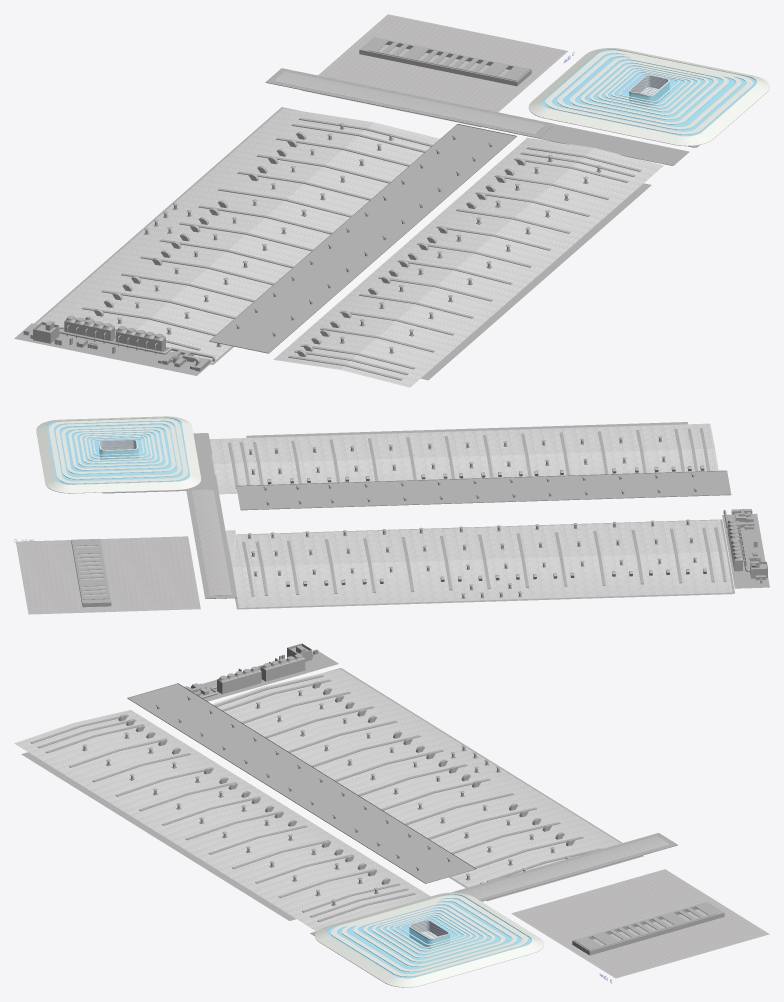
The model's file is 1brgz.glb.
3 renders of one model, top to bottom at view 1: azimuth 30°, elevation 25°; view 2: azimuth 150°, elevation 25°; view 3: azimuth 270°, elevation 25°, orthographic. The views are drawn at different scales.
Parts seen in each view (by area): view 1: dingpeng, 组001, huwaizhuan01.003, gray01.003, gray01.005; view 2: dingpeng, 组001, huwaizhuan01.003, gray01.003, gray01.005; view 3: dingpeng, 组001, huwaizhuan01.003, gray01.003, gray01.005.
Part boxes in pixels (x1,y1,x2,y2): dingpeng: (36,108,663,387); 组001: (14,37,769,380); huwaizhuan01.003: (301,14,567,127); gray01.003: (542,50,756,136); gray01.005: (274,71,545,134); dingpeng: (209,423,732,607); 组001: (36,416,769,609); huwaizhuan01.003: (16,536,200,614); gray01.003: (47,418,189,484); gray01.005: (191,489,231,596); dingpeng: (14,669,620,931); 组001: (21,643,724,987); huwaizhuan01.003: (511,869,769,978); gray01.003: (327,894,531,978); gray01.005: (459,836,669,899).
Bounding box in the file's own units: 332 × 19.05 × 292.
Materials: 7 (2 with a texture image).
